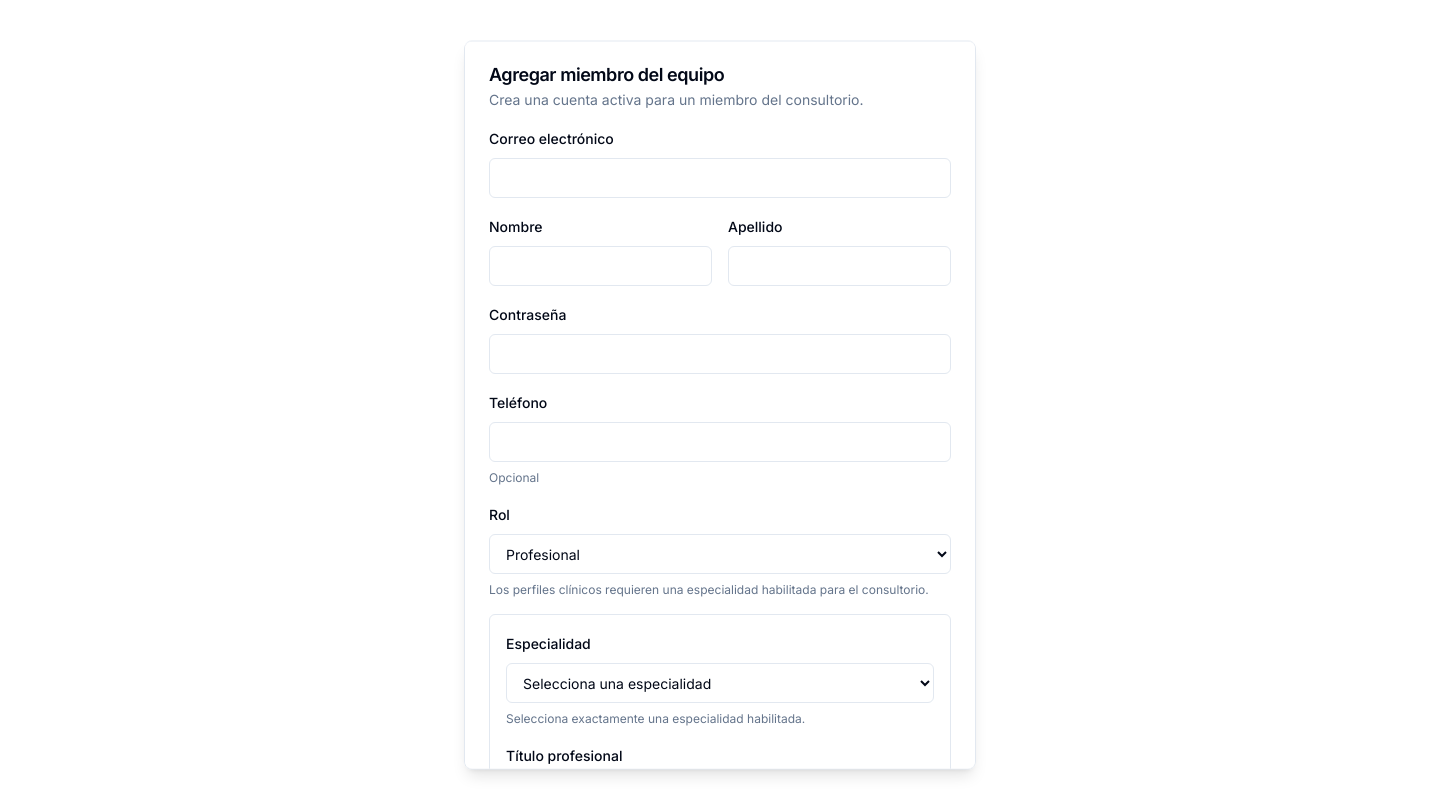
Test: TeamMemberDialog › keeps create fields and dialog open after a server error
In the field labelled "Correo electrónico": [720, 178] box top-left (489, 158), bottom-right (951, 198), type "ana@example.com"
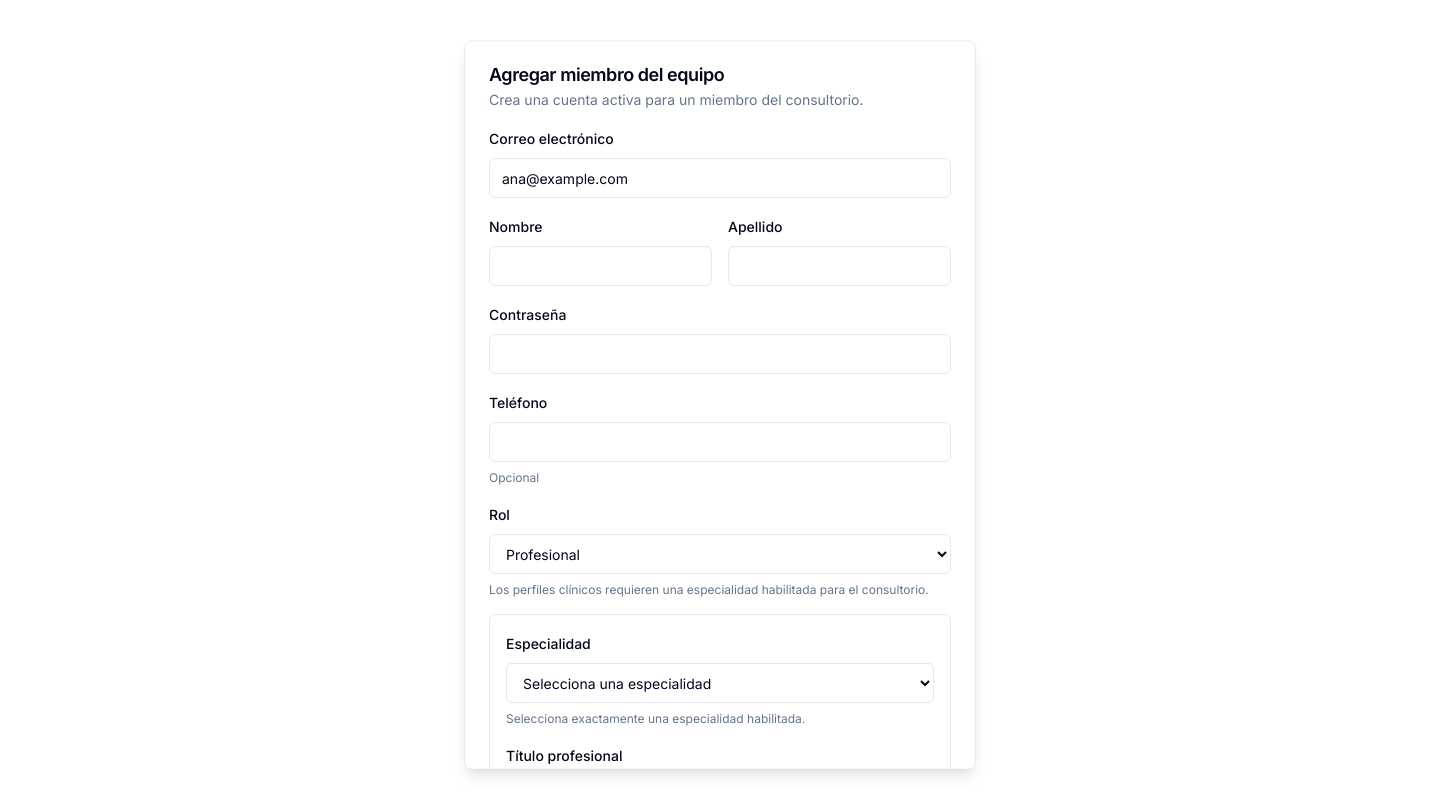
In the field labelled "Nombre": [600, 266] box top-left (489, 246), bottom-right (712, 286), type "Ana"
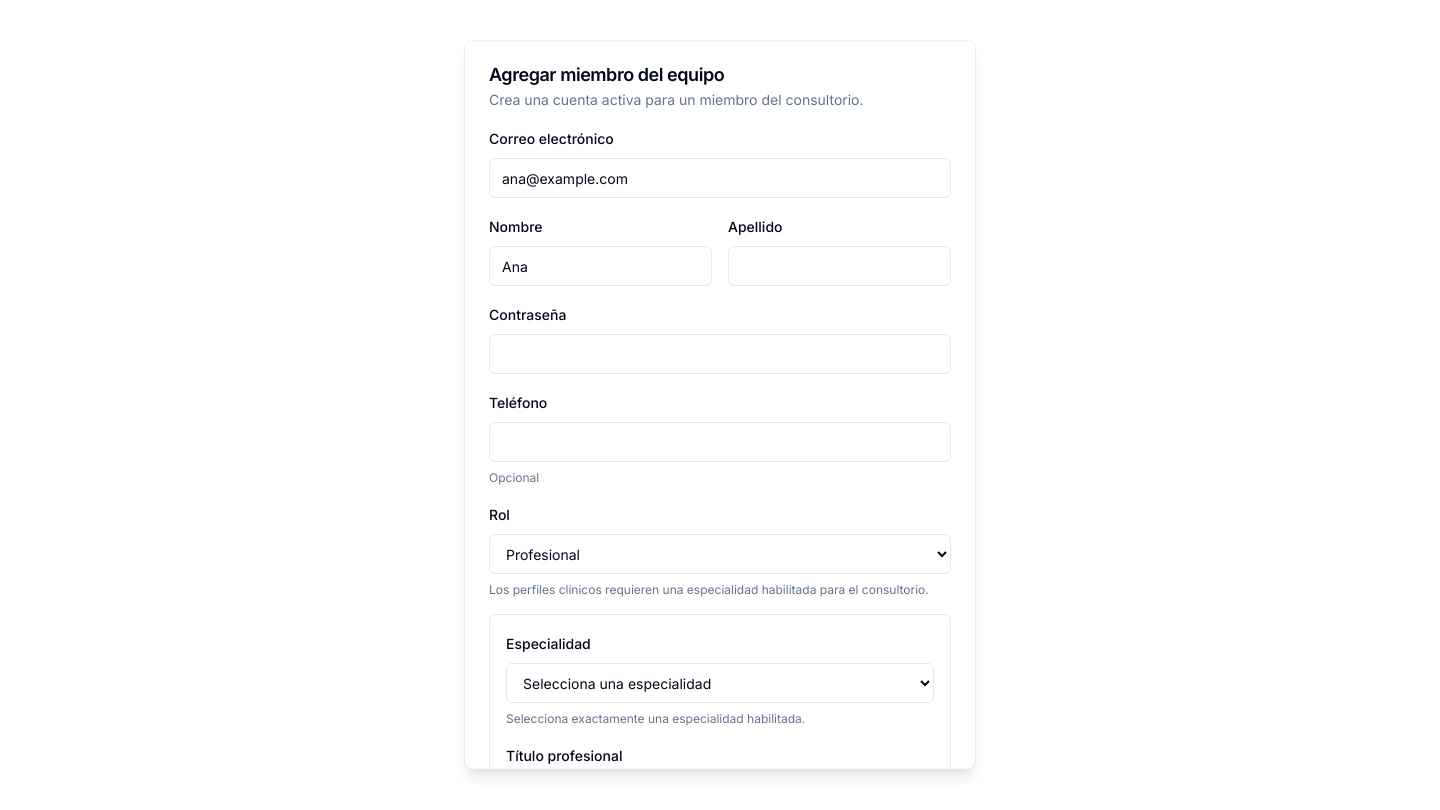
In the field labelled "Apellido": [840, 266] box top-left (728, 246), bottom-right (951, 286), type "Vega"
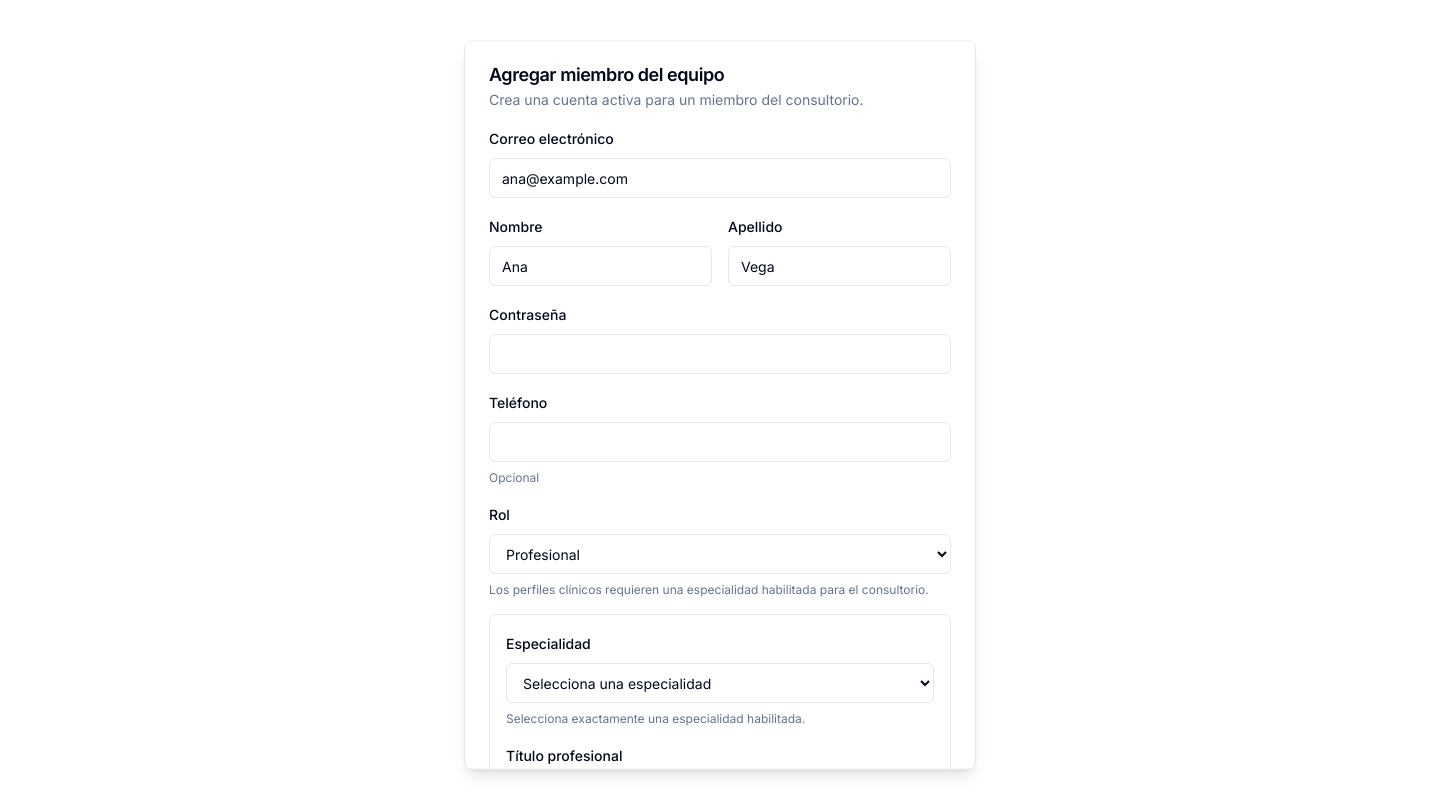
In the password field labelled "Contraseña": [720, 354] box top-left (489, 334), bottom-right (951, 374), type "Secret123"
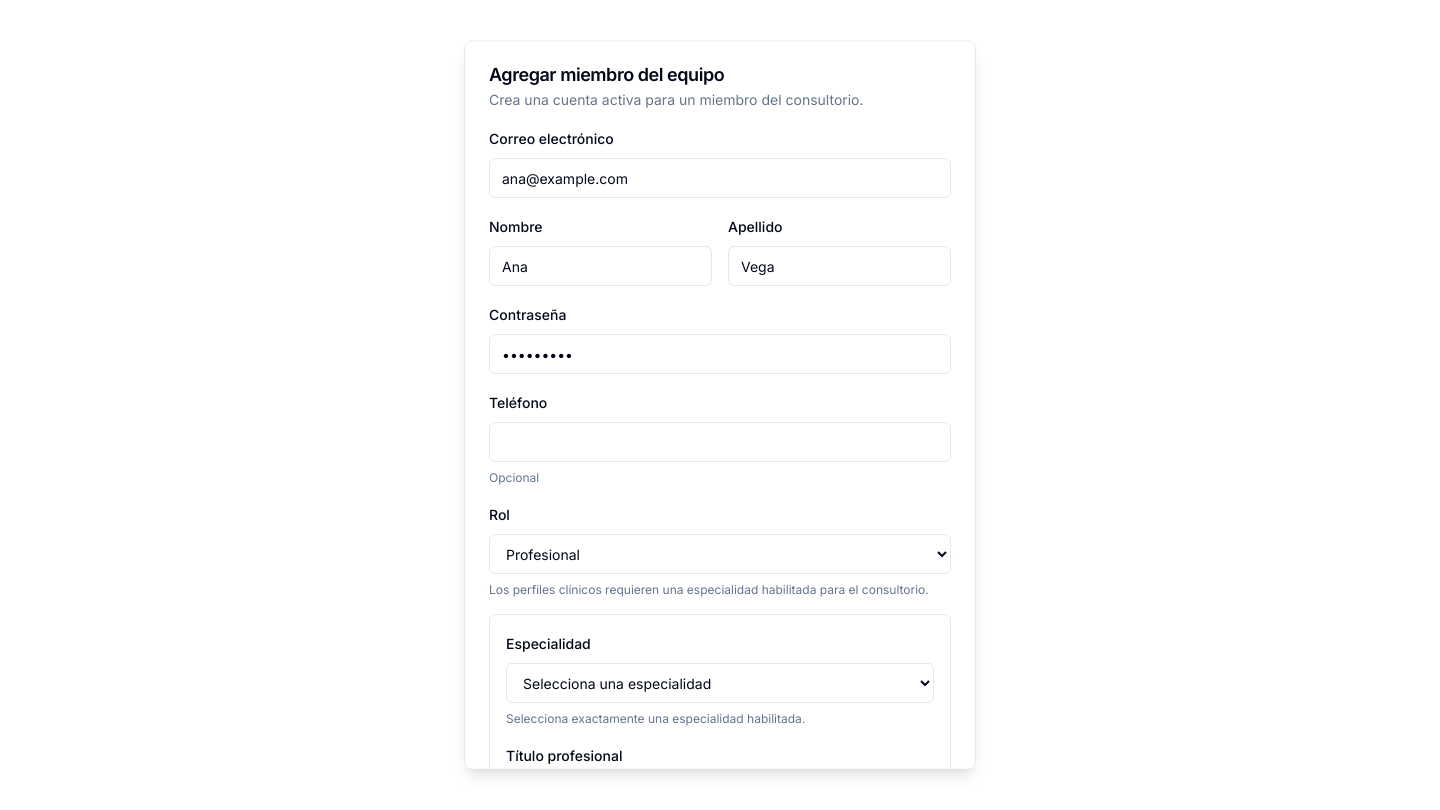
Select "Asistente" in the dropdown labelled "Rol": [720, 554] box top-left (489, 534), bottom-right (951, 574)
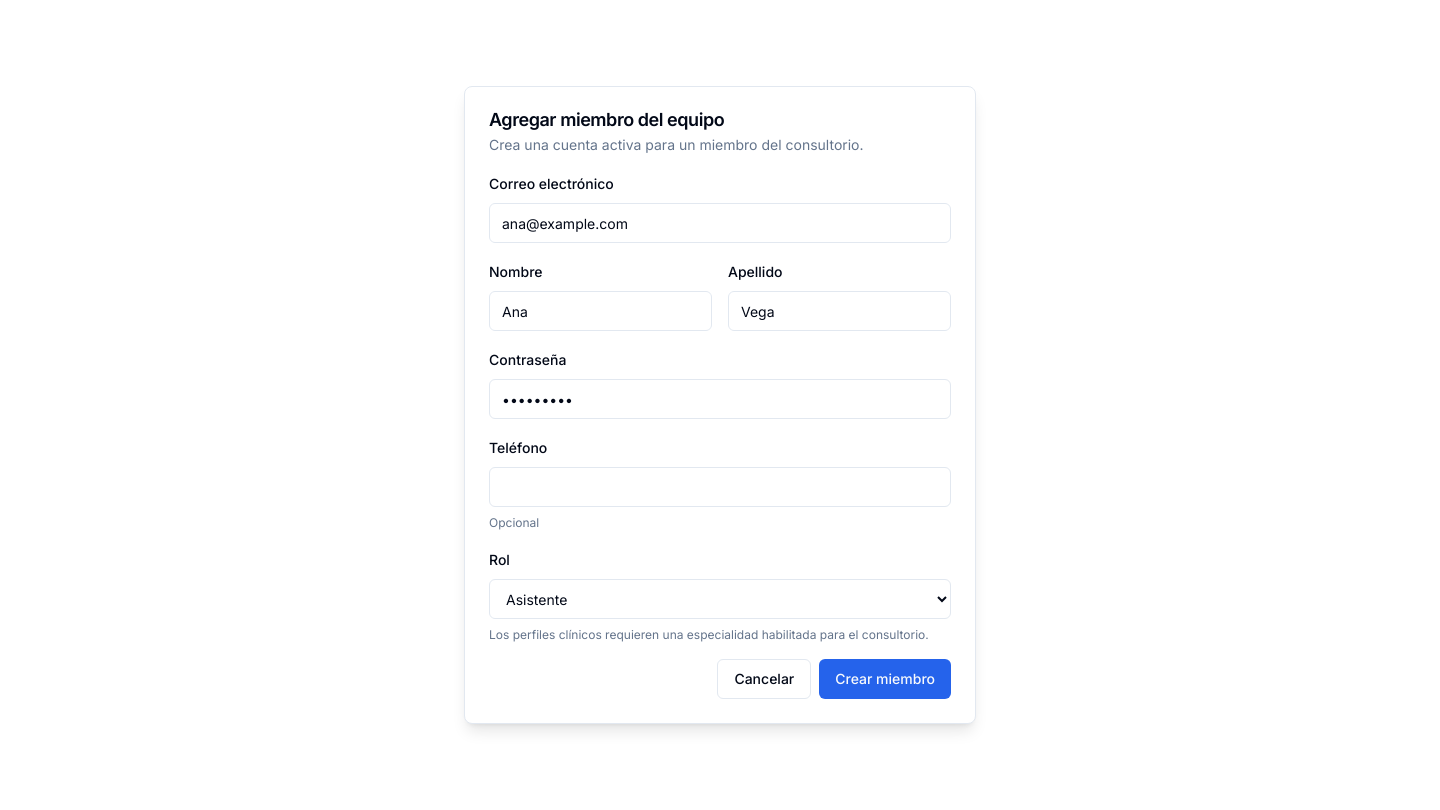
Click the button "Crear miembro": [885, 679] box top-left (819, 659), bottom-right (951, 699)
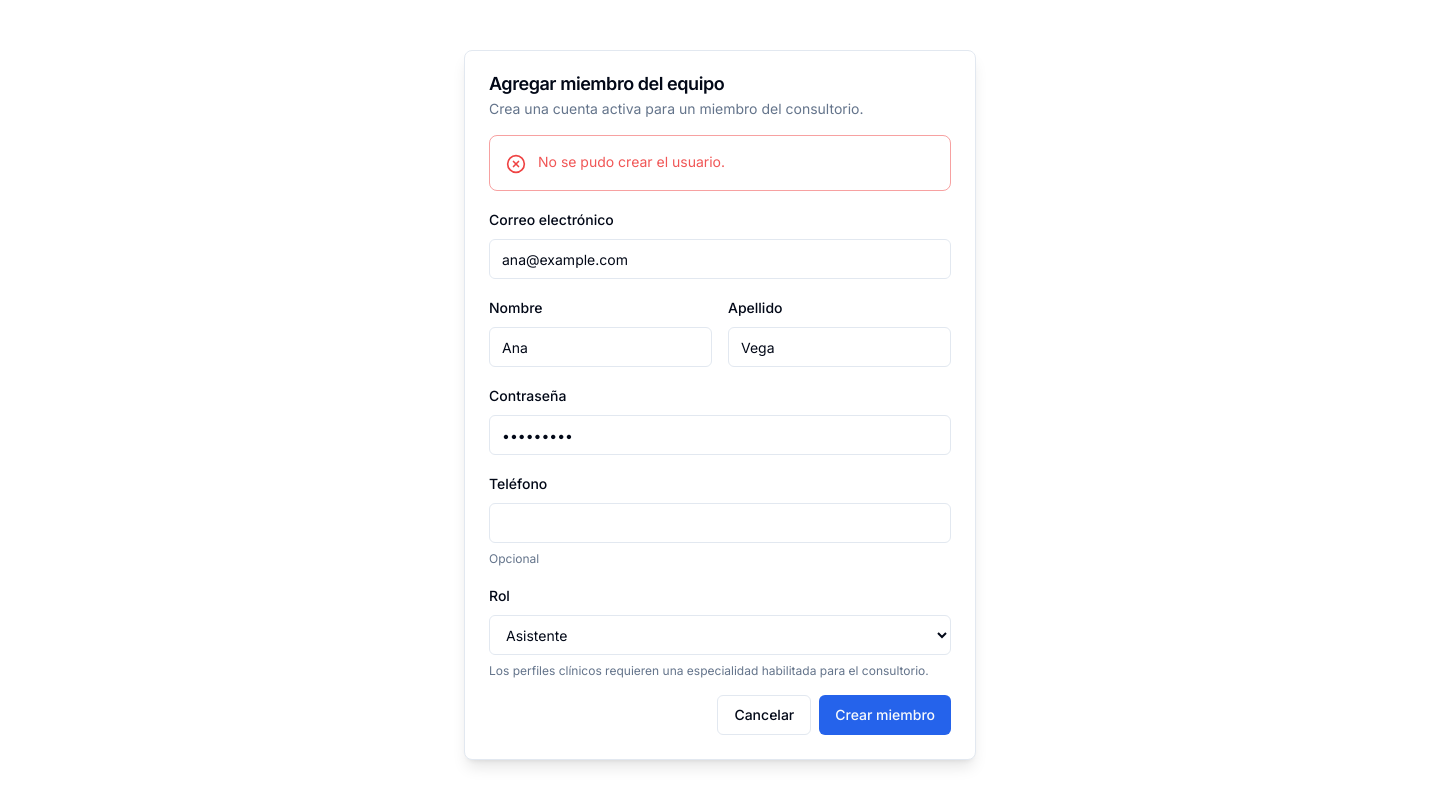
Expected: the dialog is shown, top-left (464, 50), bottom-right (976, 760)
Result: the message reads "No se pudo crear el usuario." at top-left (538, 153), bottom-right (725, 170)
